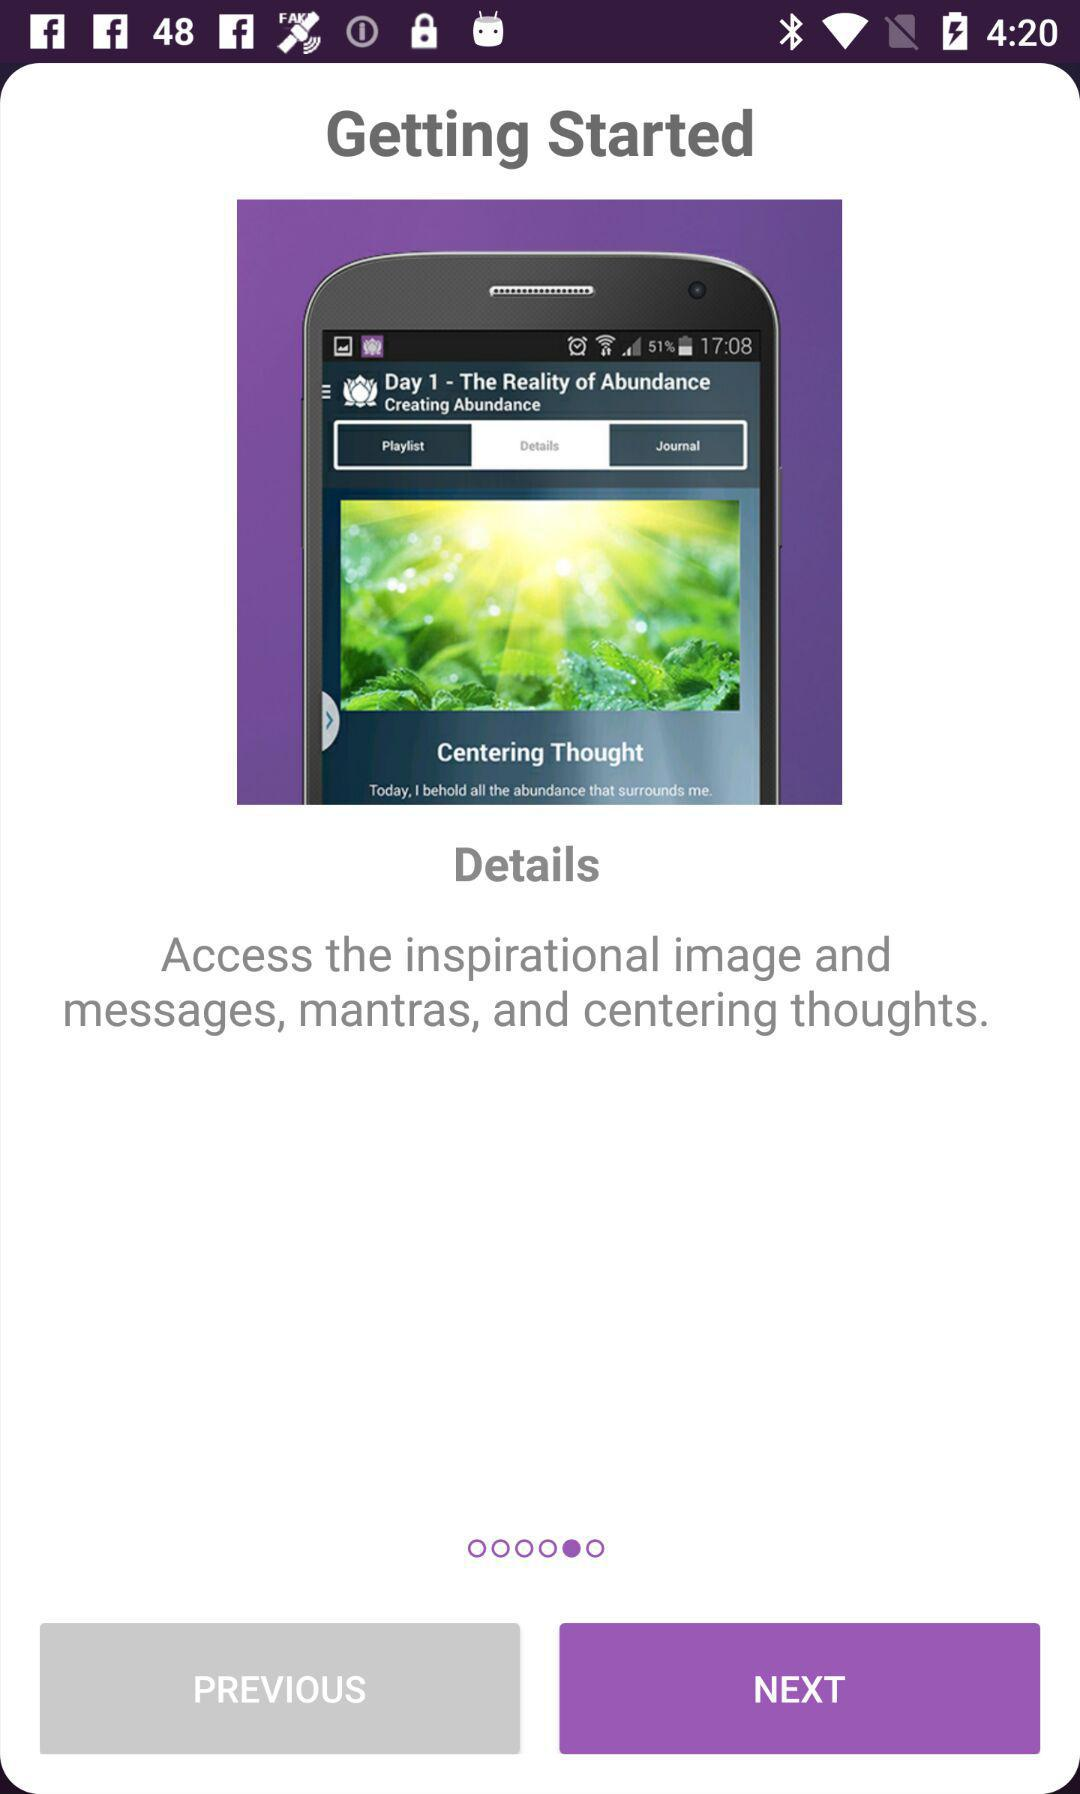Image: (238, 200, 843, 806)
PageIndicator: (468, 1536, 607, 1559)
Text: (64, 934, 988, 1039), (327, 108, 755, 172), (455, 844, 601, 884)
TextButton: (559, 1622, 1042, 1756), (41, 1622, 521, 1756)
UpperTaskBar: (1, 1, 1080, 64)
